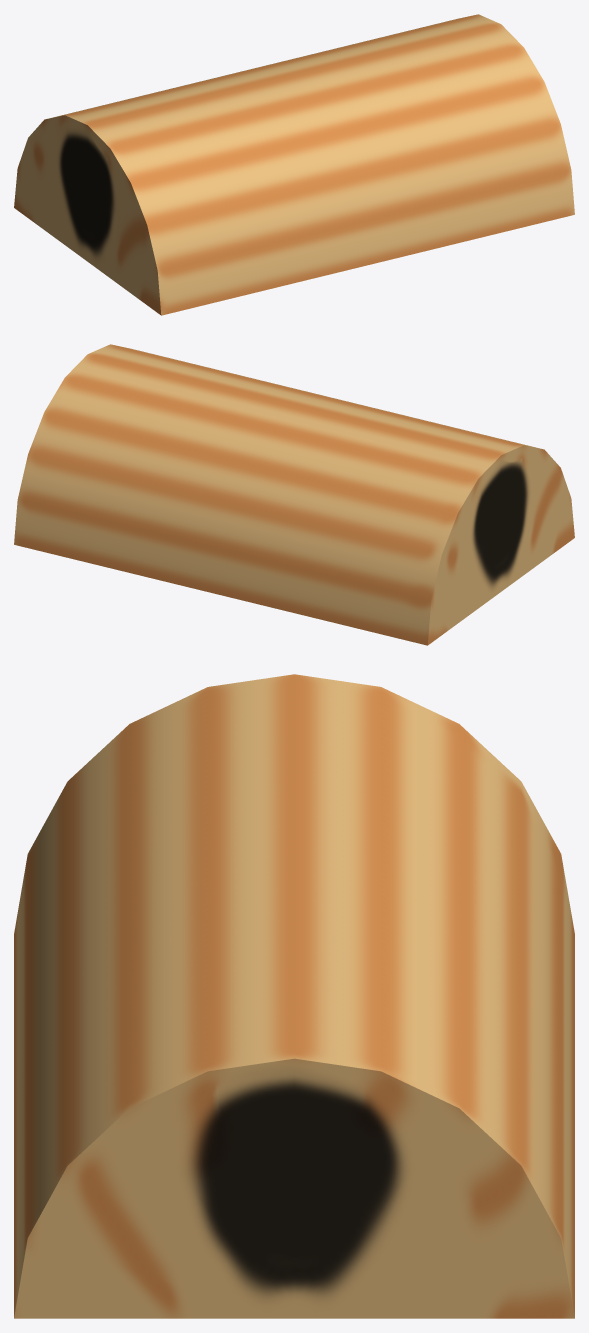
The model's file is chest1.fbx.
3 views of the same model, one above another, from view 1: azimuth 30°, elevation 25°; view 2: azimuth 150°, elevation 25°; view 3: azimuth 270°, elevation 25° (orthographic). The views are drawn at different scales.
Visible parts, largest first — view 1: Toy_Box_Poly_Toy_Box_Texture_0.001; view 2: Toy_Box_Poly_Toy_Box_Texture_0.001; view 3: Toy_Box_Poly_Toy_Box_Texture_0.001.
Part boxes in pixels (x1=…): Toy_Box_Poly_Toy_Box_Texture_0.001: x1=14, y1=14, x2=574, y2=315; Toy_Box_Poly_Toy_Box_Texture_0.001: x1=14, y1=344, x2=574, y2=645; Toy_Box_Poly_Toy_Box_Texture_0.001: x1=14, y1=674, x2=574, y2=1318.
Bounding box in the file's own units: 6.47 × 3.99 × 2.04.
Materials: 1 (1 with a texture image).
